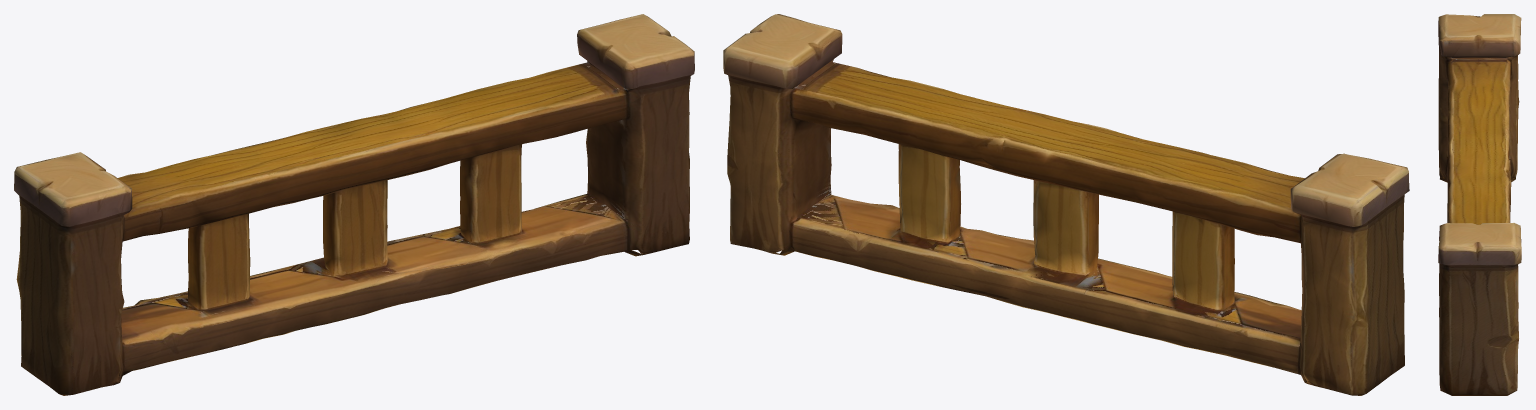
The model's file is SM_Env_Railing.fbx.
The picture shows the model from 3 angles, left to right: view 1: azimuth 30°, elevation 25°; view 2: azimuth 150°, elevation 25°; view 3: azimuth 270°, elevation 25°; orthographic projection. The views are drawn at different scales.
Parts seen in each view (by area): view 1: SM_Env_Railing; view 2: SM_Env_Railing; view 3: SM_Env_Railing.
Part boxes in pixels (x1=…): SM_Env_Railing: x1=14, y1=14, x2=694, y2=395; SM_Env_Railing: x1=723, y1=14, x2=1409, y2=395; SM_Env_Railing: x1=1438, y1=14, x2=1521, y2=395.
Bounding box in the file's own units: 2 × 0.6 × 0.3.
